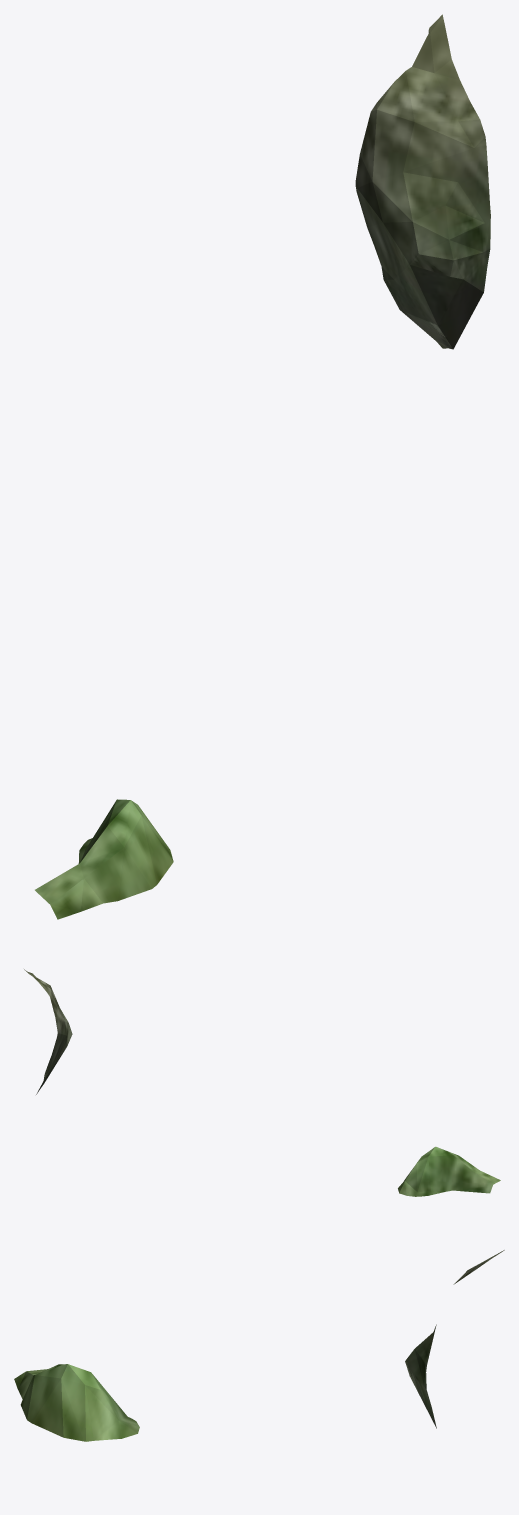
3 views of the same model, one above another, from view 1: azimuth 30°, elevation 25°; view 2: azimuth 150°, elevation 25°; view 3: azimuth 270°, elevation 25° (orthographic). The views are drawn at different scales.
Size of the model in its own units: 2.95 by 2.15 by 2.23.
1 material, 1 textured.
